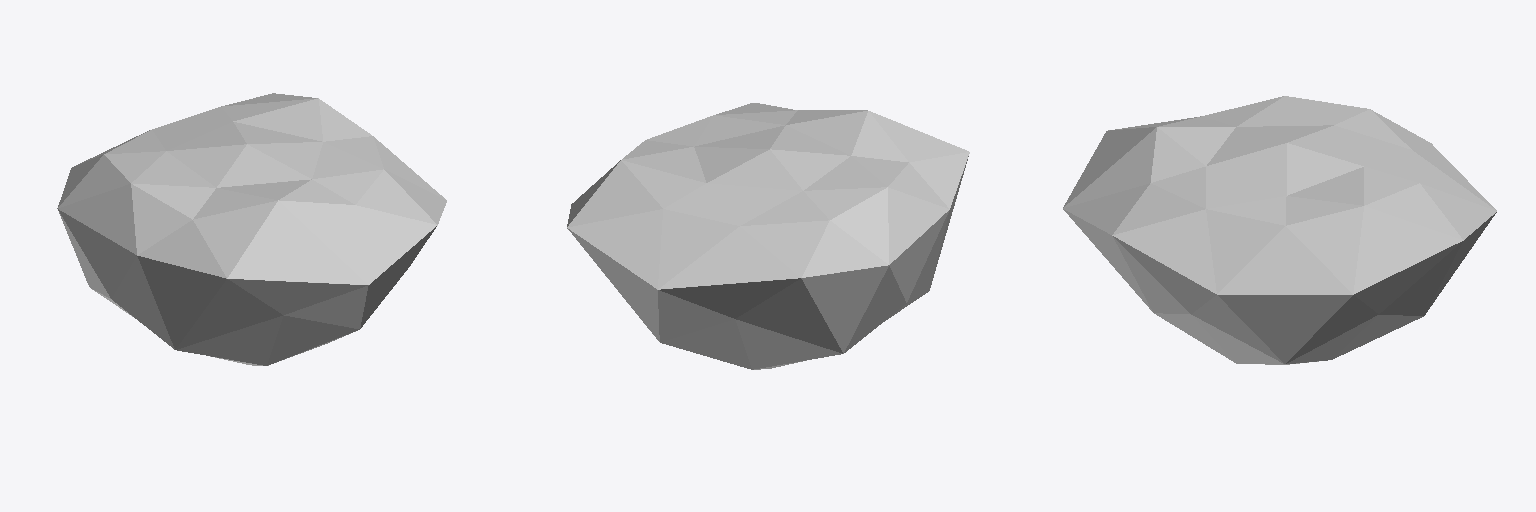
Rendered from Landmass 1.obj.
The picture shows the model from 3 angles: view 1: azimuth 30°, elevation 25°; view 2: azimuth 150°, elevation 25°; view 3: azimuth 270°, elevation 25°; orthographic projection.
Parts seen in each view (by area): view 1: LandMass; view 2: LandMass; view 3: LandMass.
Part boxes in pixels (bbox=[...]): LandMass: bbox=[57, 93, 446, 365]; LandMass: bbox=[567, 103, 969, 369]; LandMass: bbox=[1063, 96, 1496, 364].
Bounding box in the file's own units: 4.17 × 2.75 × 4.91.